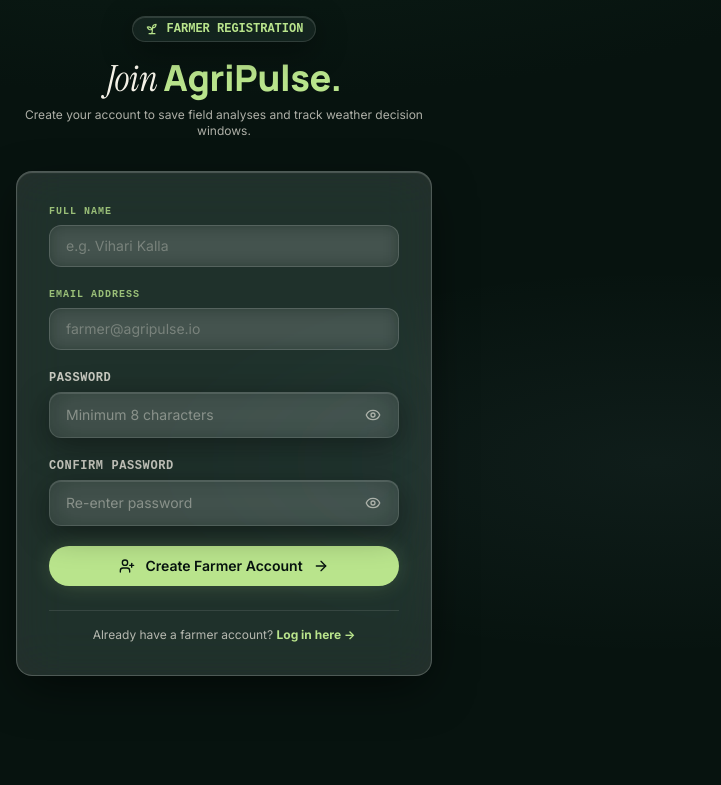
Stage 11J Frontend Auth & Password Component Tests › 2. SignupPage renders field validation errors on invalid submit
Step 1. Click the button "Create Farmer Account" → (224,566), box [49,546,399,586]
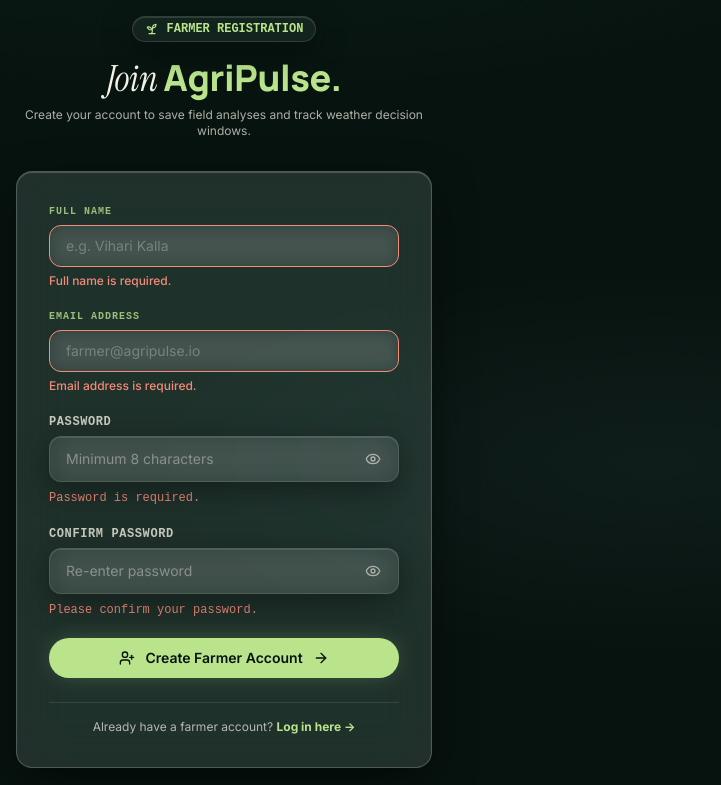
Check: the text "Full name is required." is shown, box [49,273,171,288]
Check: the text "Email address is required." is shown, box [49,378,196,393]
Check: the text "Password is required." is shown, box [49,491,200,505]
